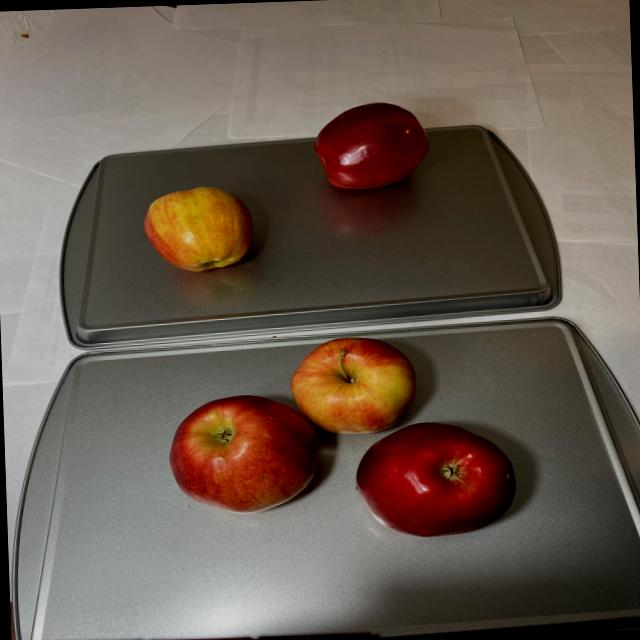apple: (164, 333, 520, 545), (308, 100, 431, 192), (141, 184, 256, 274)
